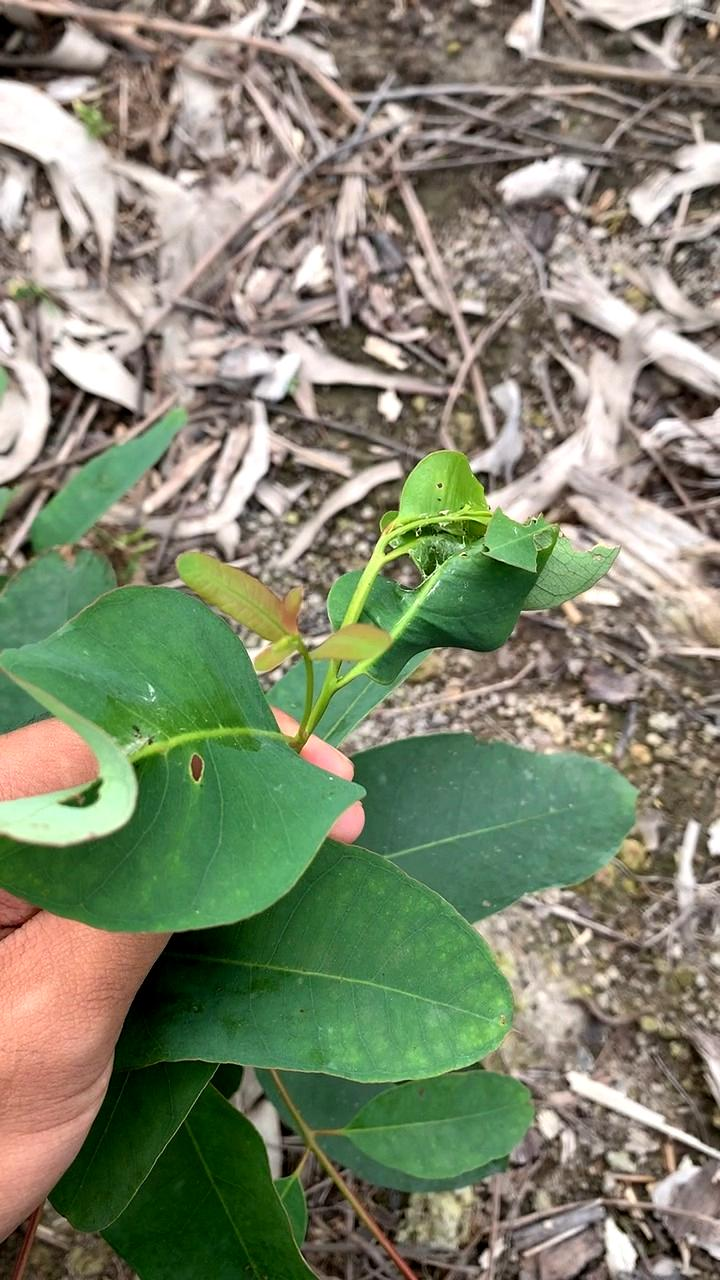Leaf Roller - Leaf: (338, 448, 613, 663)
